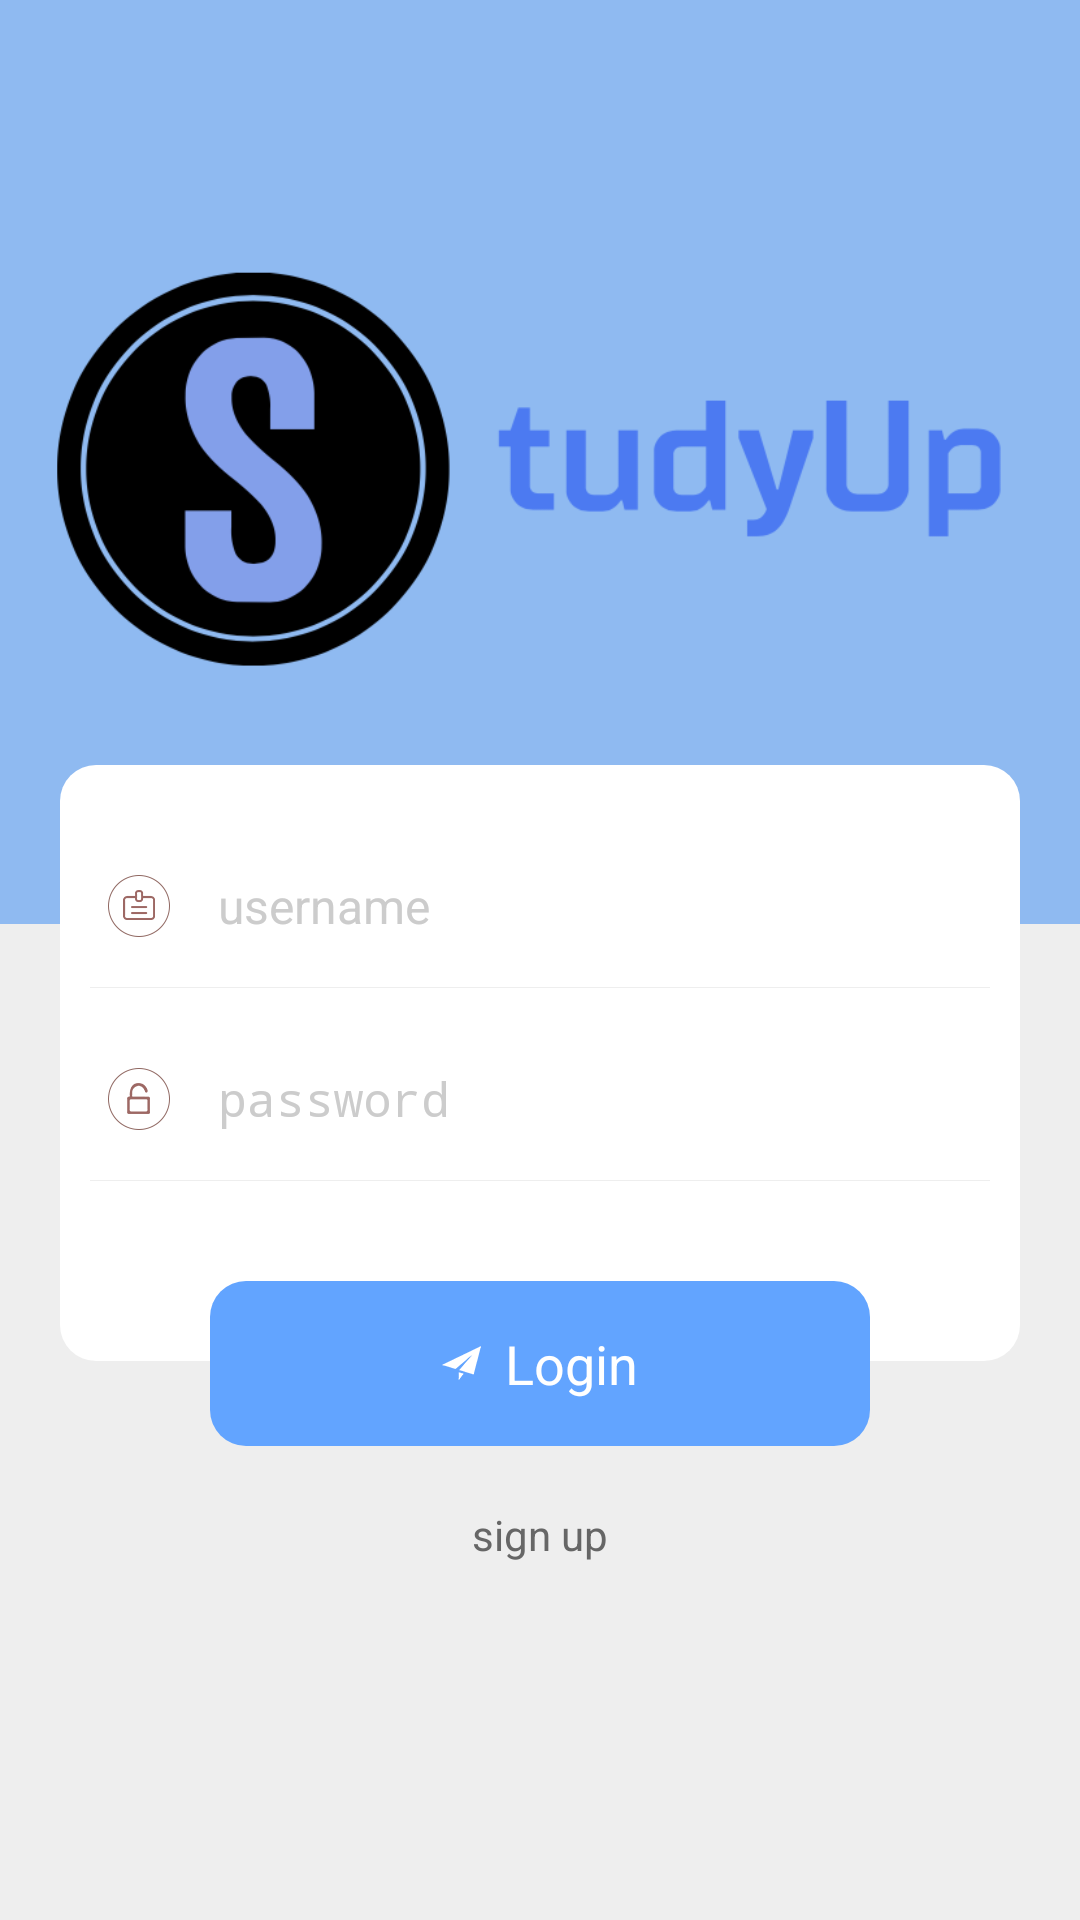

Locate icon controls on the screen. Image size 1080 × 1920, boxes as (x1, y1, x2, y2).
gonghao: (108, 875, 170, 937)
mima: (108, 1068, 170, 1130)
